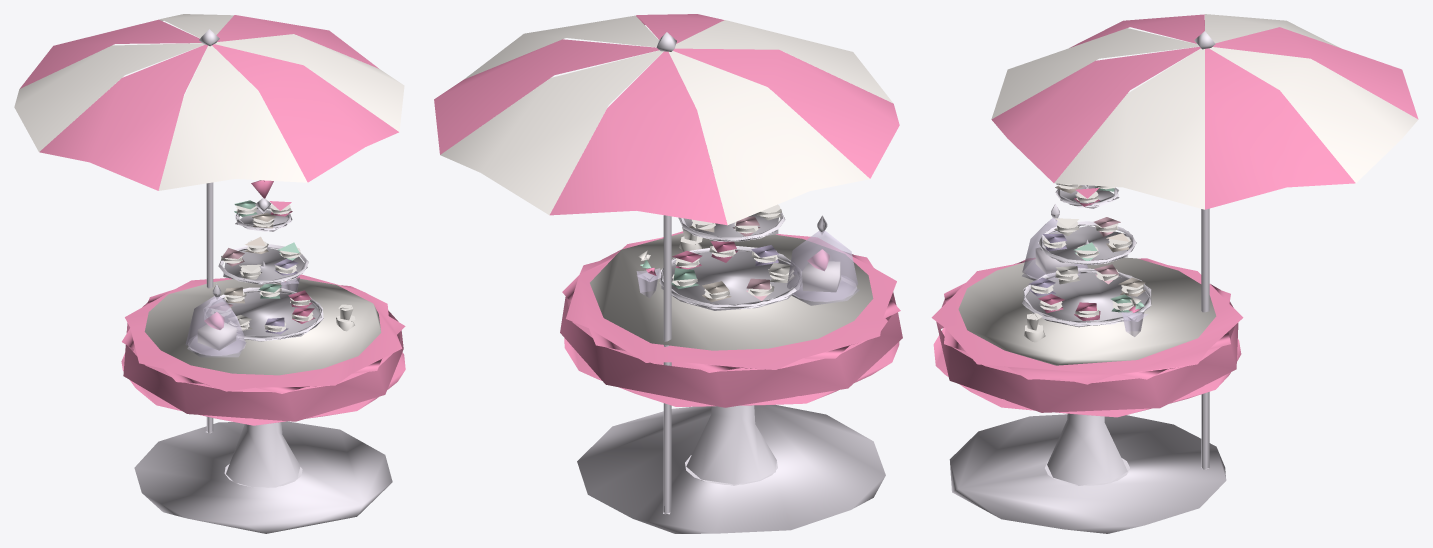
Rendered from lod_macaron_stand.glb.
The picture shows the model from 3 angles, left to right: view 1: azimuth 30°, elevation 25°; view 2: azimuth 150°, elevation 25°; view 3: azimuth 270°, elevation 25°; orthographic projection. The views are drawn at different scales.
Parts seen in each view (by area): view 1: macaron_stand; view 2: macaron_stand; view 3: macaron_stand.
Part boxes in pixels (x1,y1,x2,y2): macaron_stand: [14, 14, 405, 533]; macaron_stand: [434, 14, 902, 533]; macaron_stand: [931, 14, 1418, 533].
Size of the model in its own units: 2 by 2.3 by 2.28.
